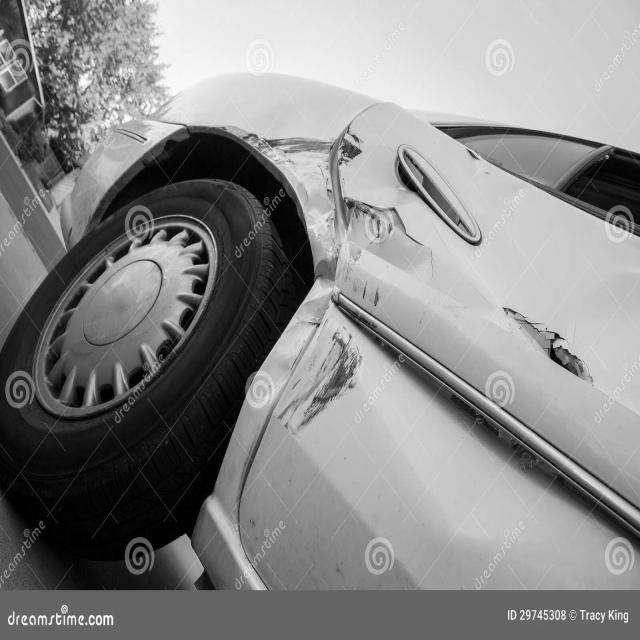crush: (216, 103, 612, 443)
